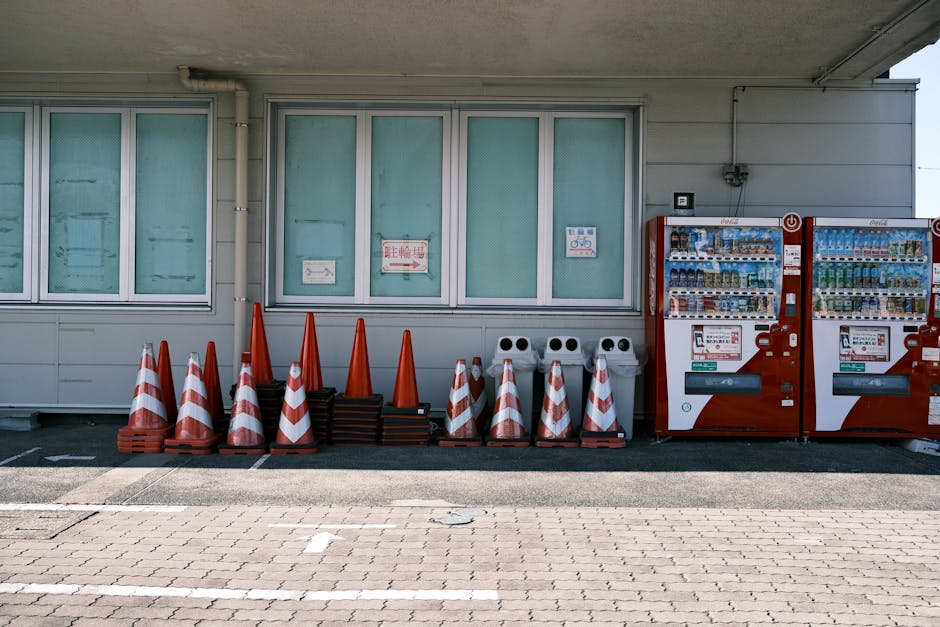traffic_cone: (116, 343, 170, 453), (164, 351, 220, 455), (218, 352, 267, 455), (269, 361, 319, 455), (579, 355, 627, 449), (485, 358, 531, 447), (534, 359, 579, 448), (438, 358, 483, 447), (129, 342, 170, 436), (248, 301, 278, 387), (343, 317, 374, 398), (201, 341, 228, 434), (391, 329, 420, 409), (298, 311, 325, 393), (156, 340, 179, 421), (467, 356, 490, 431)
